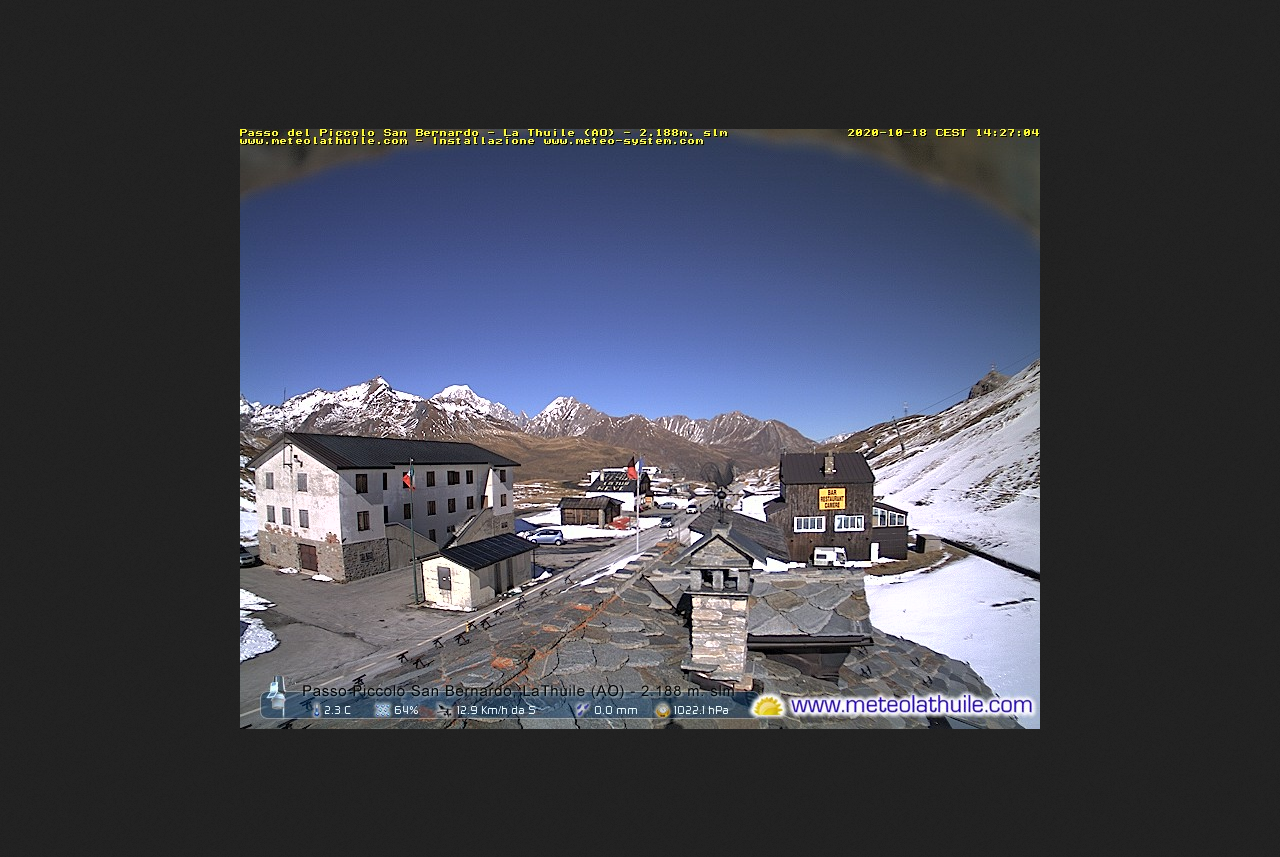no: (402, 466, 417, 491), (625, 457, 636, 480), (633, 456, 643, 477)
